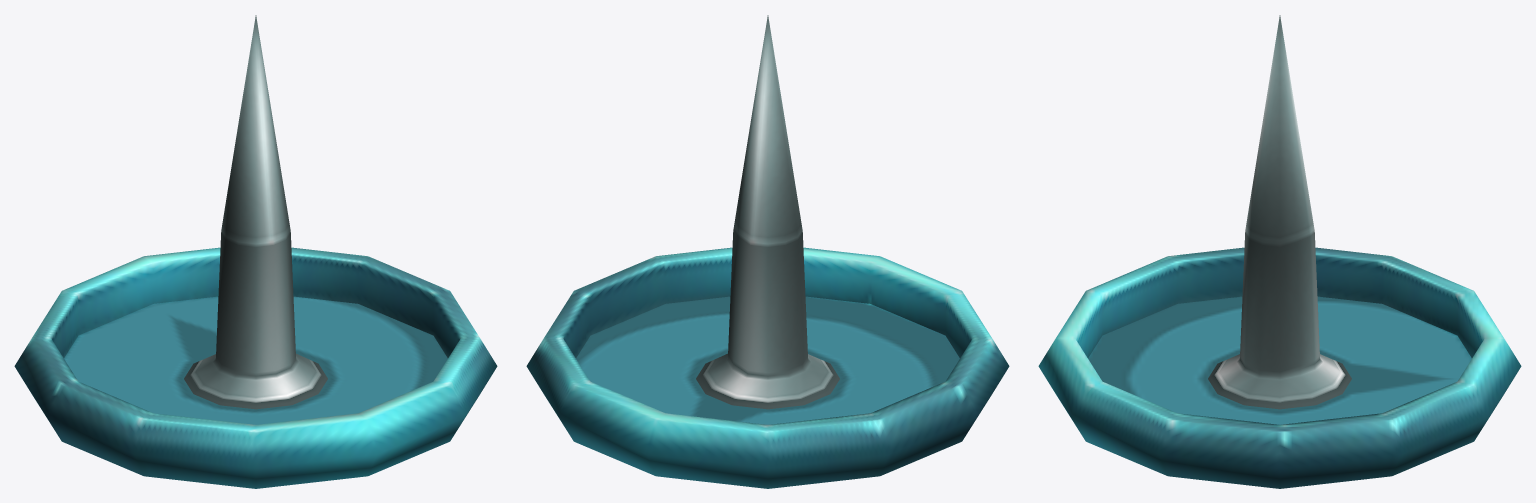
The model's file is Block_DingZi.FBX.
3 renders of one model, left to right at view 1: azimuth 30°, elevation 25°; view 2: azimuth 150°, elevation 25°; view 3: azimuth 270°, elevation 25°, orthographic.
Parts seen in each view (by area): view 1: Block_DingZi; view 2: Block_DingZi; view 3: Block_DingZi.
Boxes of the visible parts, x1,y1,x2,y2 form: Block_DingZi: (14,15,497,488); Block_DingZi: (526,15,1009,488); Block_DingZi: (1038,15,1521,488).
Size of the model in its own units: 48.27 by 41.92 by 48.27.
